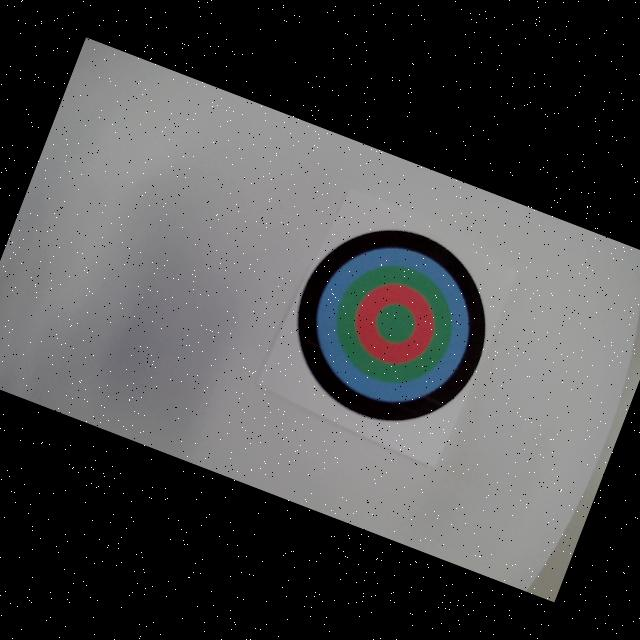COGNITIVE: (268, 202, 515, 450)
